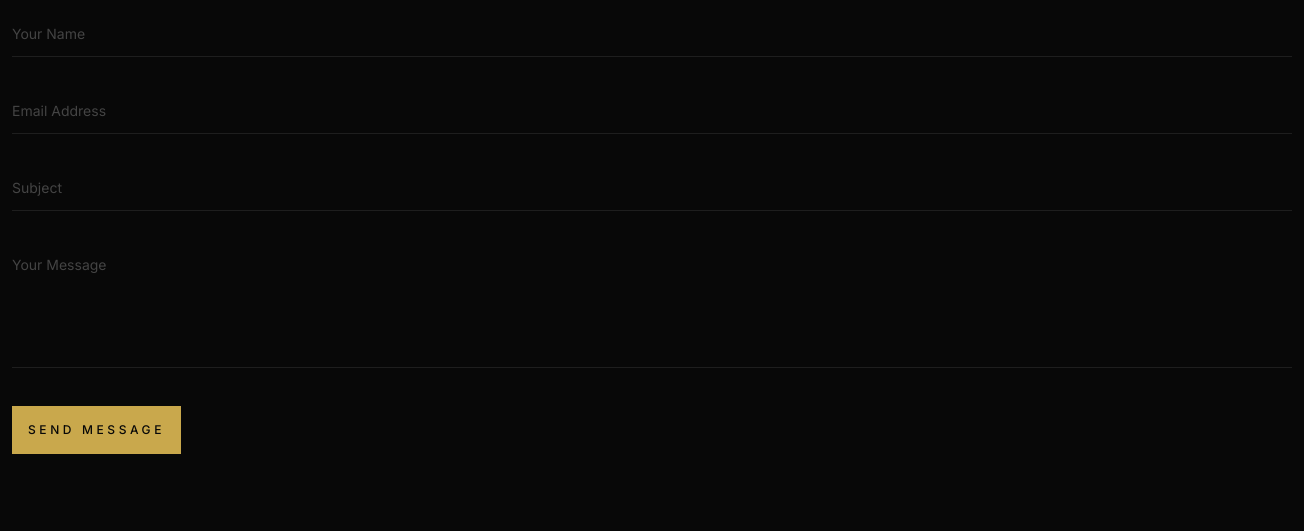
it: ContactForm › shows email validation error for invalid email
Type "Valid Name" into the field with placeholder "Your Name".
click(652, 34); type("Valid Name")  # box [12,12,1292,57]
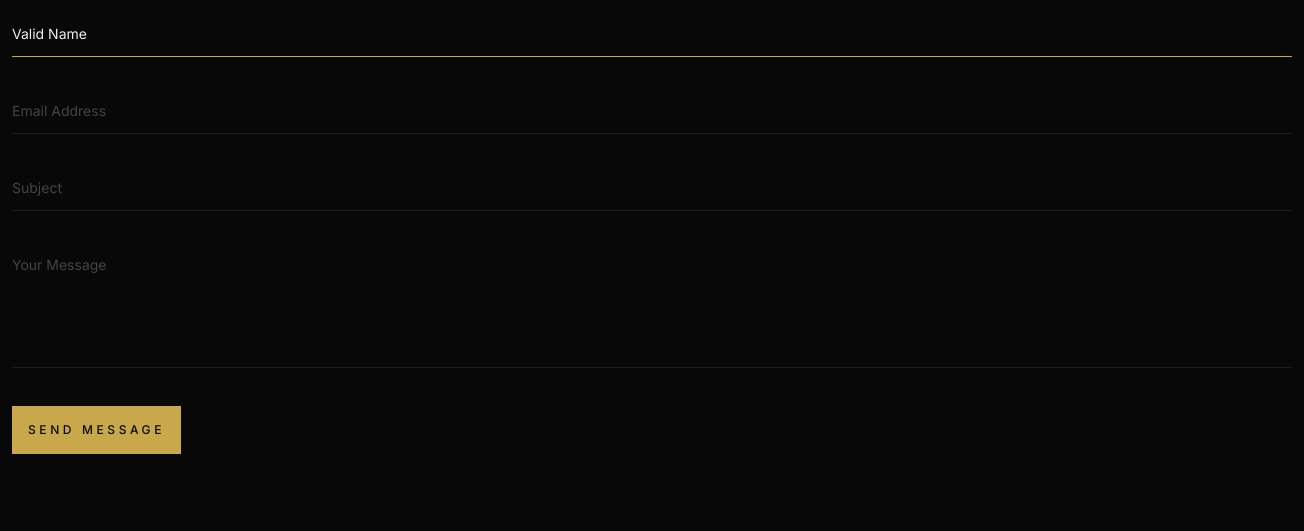
Type "not-an-email" into the field with placeholder "Email Address".
click(652, 112); type("not-an-email")  # box [12,89,1292,134]
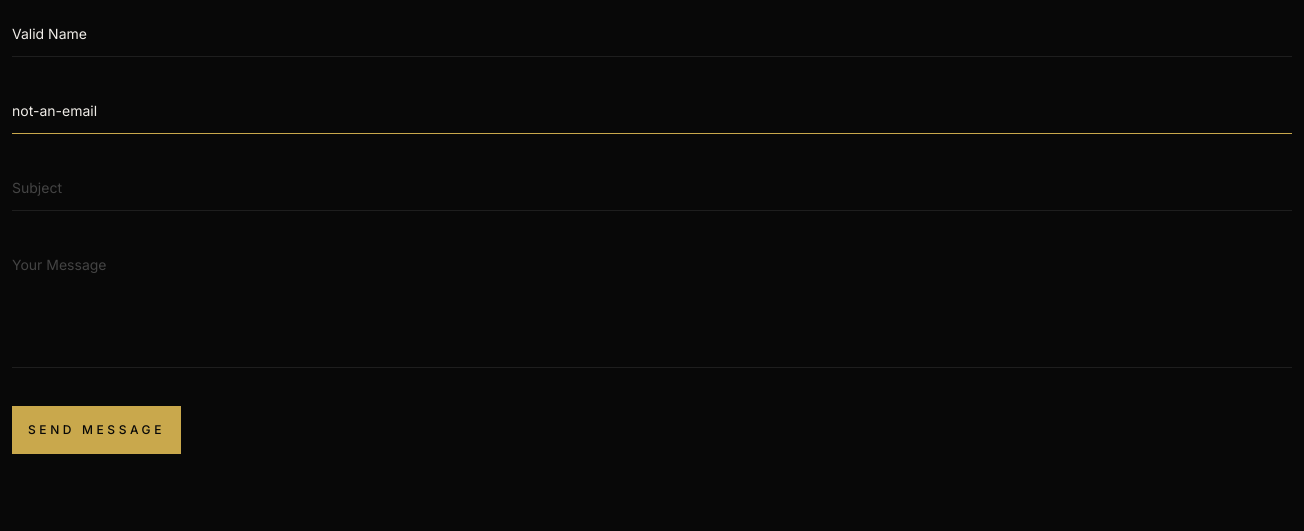
Click the button "Send Message".
click(96, 430)  # box [12,406,181,454]
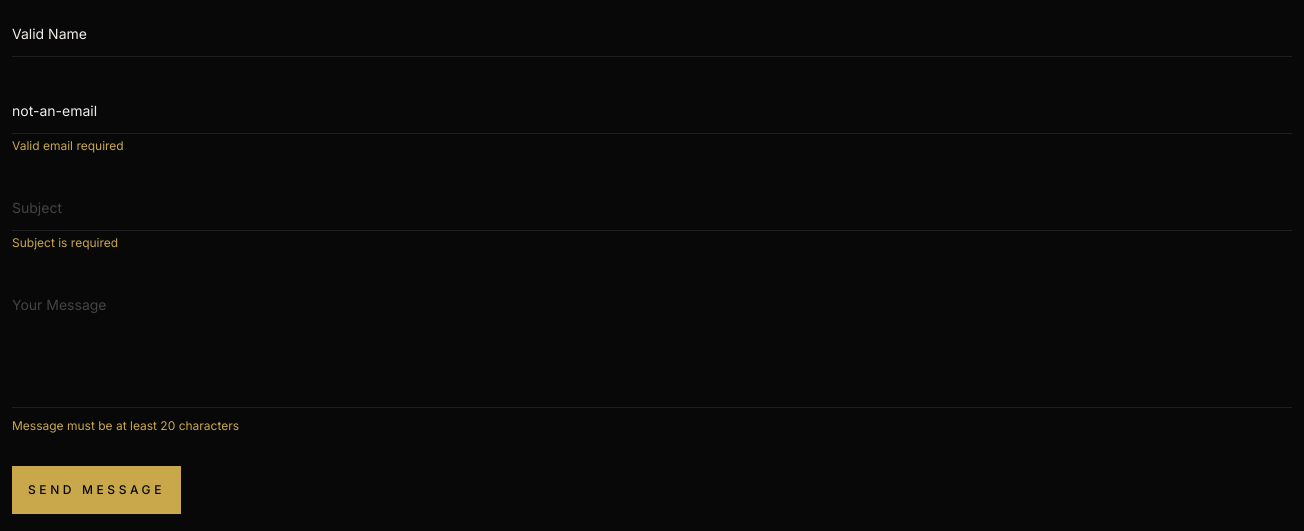
Result: the text "Valid email required" is shown at [12,138,124,153]
